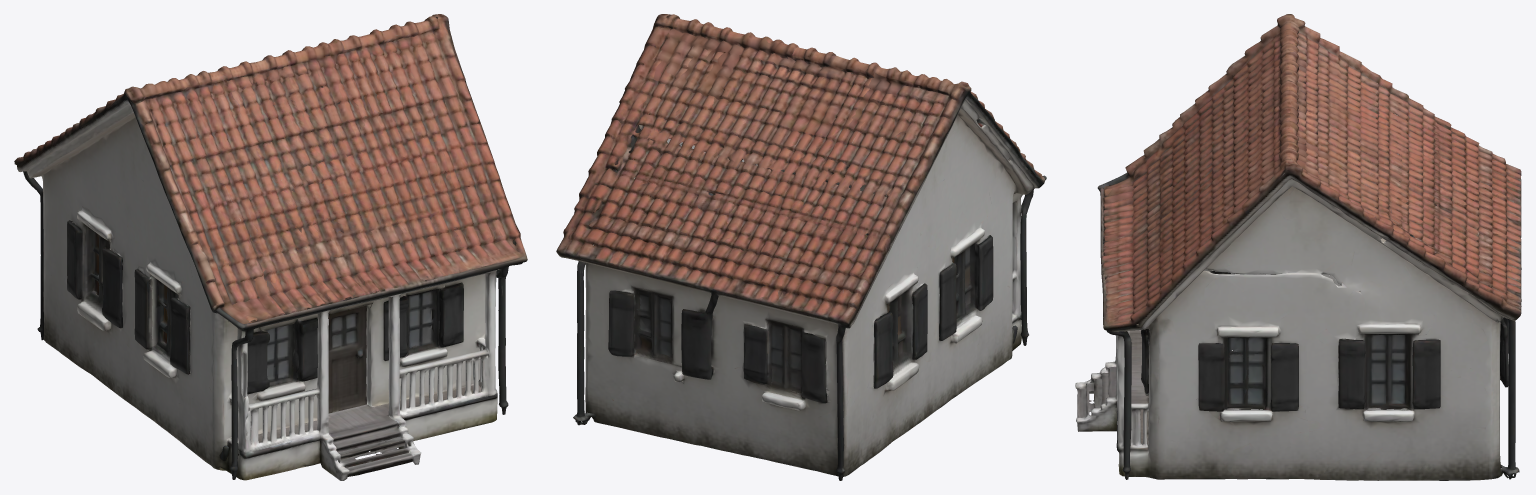
The model's file is cabin-generated-v1.glb.
3 views of the same model, side by side, from view 1: azimuth 30°, elevation 25°; view 2: azimuth 150°, elevation 25°; view 3: azimuth 270°, elevation 25° (orthographic). The views are drawn at different scales.
Parts seen in each view (by area): view 1: world; view 2: world; view 3: world.
Boxes of the visible parts, x1,y1,x2,y2 form: world: (14, 14, 527, 480); world: (556, 14, 1046, 480); world: (1075, 14, 1521, 480).
Bounding box in the file's own units: 0.8148 × 0.8256 × 1.
Materials: 1 (1 with a texture image).
